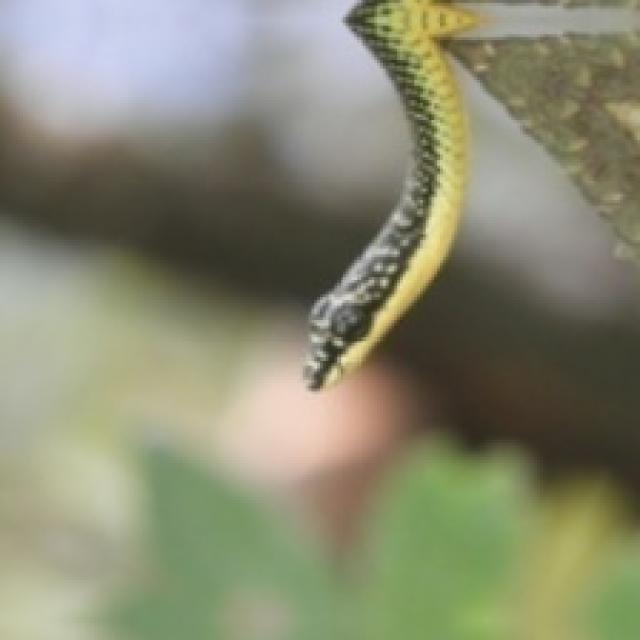paradise tree snake: (303, 0, 477, 386)
